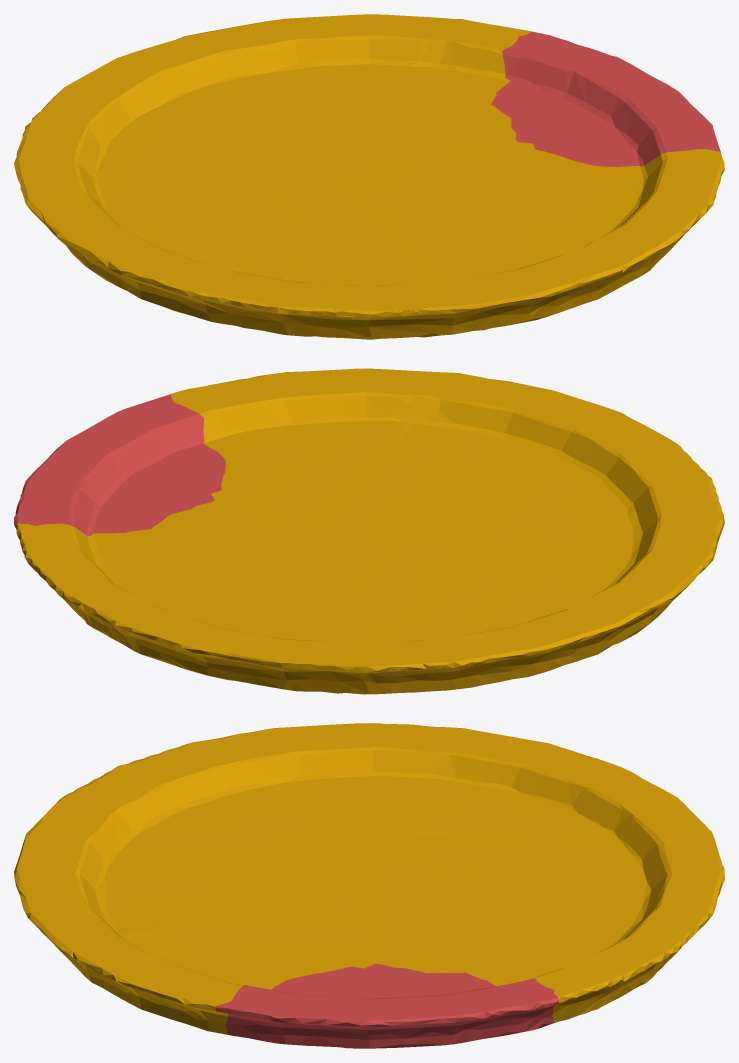
File: fractured_30_2pcs.glb
3 renders of one model, top to bottom at view 1: azimuth 30°, elevation 25°; view 2: azimuth 150°, elevation 25°; view 3: azimuth 270°, elevation 25°, orthographic.
Parts seen in each view (by area): view 1: piece_0.obj, piece_1.obj; view 2: piece_0.obj, piece_1.obj; view 3: piece_0.obj, piece_1.obj.
Part boxes in pixels (<box>): piece_0.obj: <box>14,14,724,339</box>; piece_1.obj: <box>491,31,720,166</box>; piece_0.obj: <box>15,368,724,694</box>; piece_1.obj: <box>14,394,225,535</box>; piece_0.obj: <box>14,723,724,1034</box>; piece_1.obj: <box>215,964,558,1048</box>.
Bounding box in the file's own units: 1 × 0.0672 × 0.9991.
